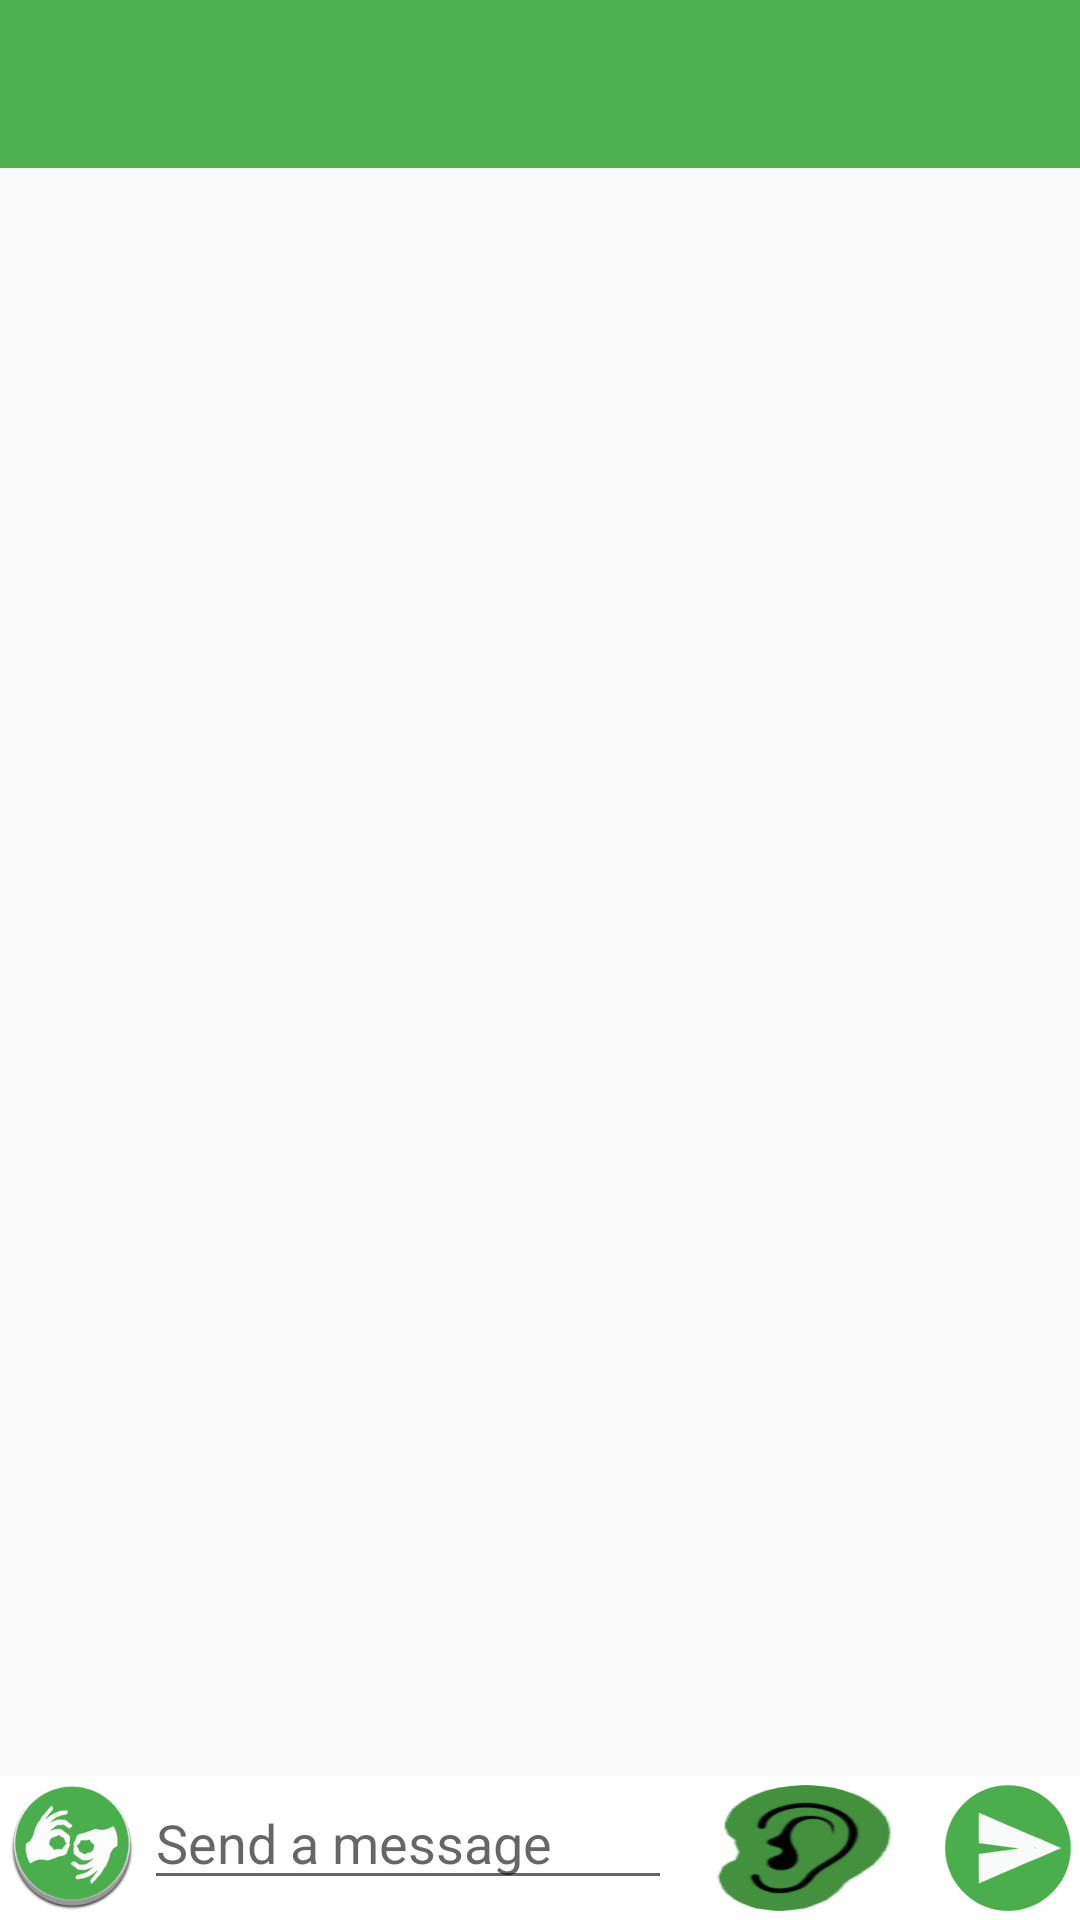

Locate icon controls on the screen. Image size 1080 x 1920, boxes as box(x1, y1, x2, y2).
enviar: box(945, 1785, 1071, 1911)
interprete: box(12, 1786, 132, 1909)
